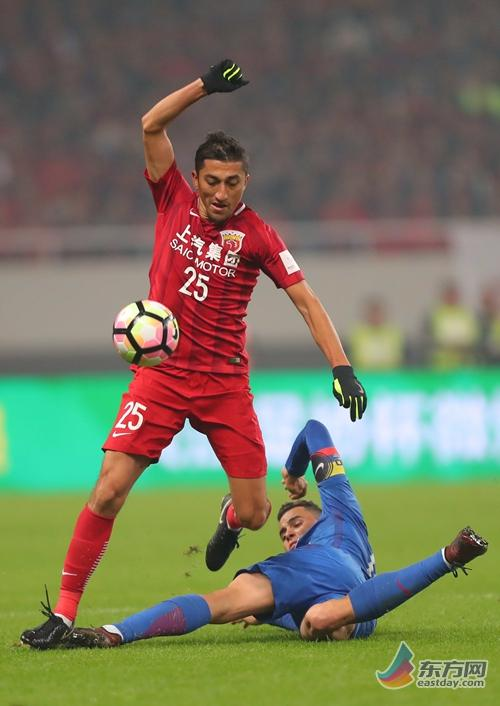down: (70, 426, 490, 643)
up: (17, 56, 327, 626)
